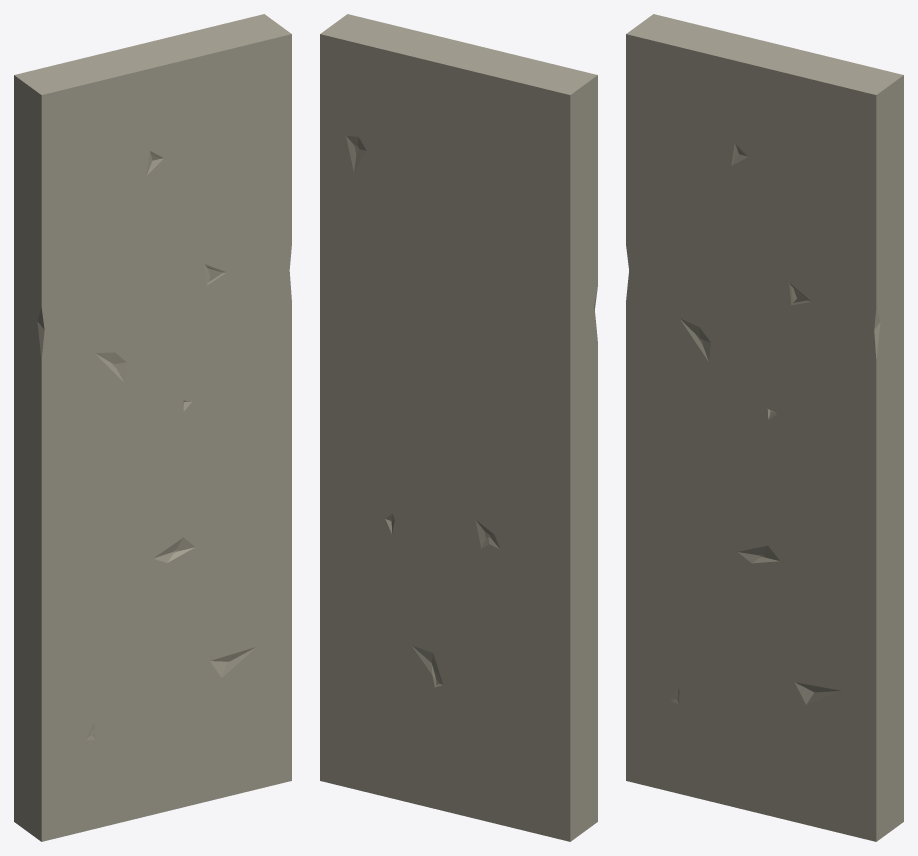
The model's file is victorian_wall_stone_1_short.fbx.
The picture shows the model from 3 angles, left to right: view 1: azimuth 30°, elevation 25°; view 2: azimuth 150°, elevation 25°; view 3: azimuth 330°, elevation 25°; orthographic projection.
Visible parts, largest first — view 1: Cube.246; view 2: Cube.246; view 3: Cube.246.
Boxes of the visible parts, <box> form: Cube.246: <box>14,14,291,841</box>; Cube.246: <box>320,14,597,841</box>; Cube.246: <box>626,14,903,841</box>.
Size of the model in its own units: 105 by 300 by 20.
